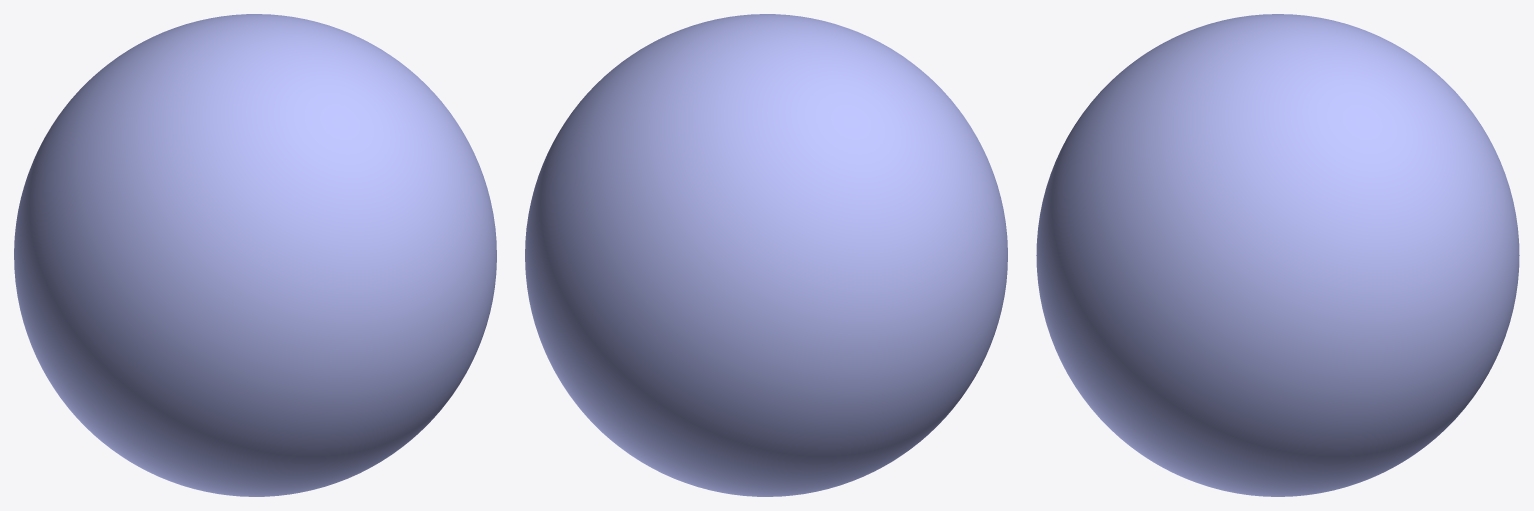
3 views of the same model, side by side, from view 1: azimuth 30°, elevation 25°; view 2: azimuth 150°, elevation 25°; view 3: azimuth 270°, elevation 25° (orthographic).
Visible parts, largest first — view 1: Icosphere.001; view 2: Icosphere.001; view 3: Icosphere.001.
Boxes of the visible parts, bbox=[...] form: Icosphere.001: bbox=[14, 14, 496, 496]; Icosphere.001: bbox=[525, 14, 1007, 496]; Icosphere.001: bbox=[1036, 14, 1519, 496].
Size of the model in its own units: 2 by 2 by 2.
